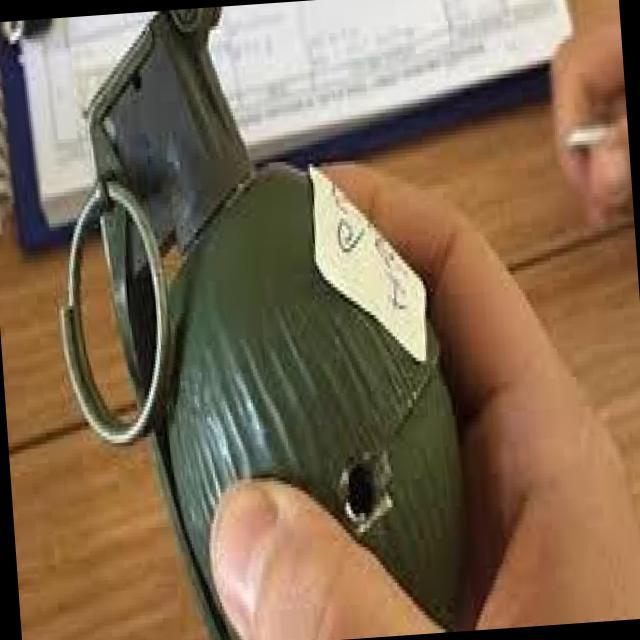grenade: (41, 21, 482, 631)
